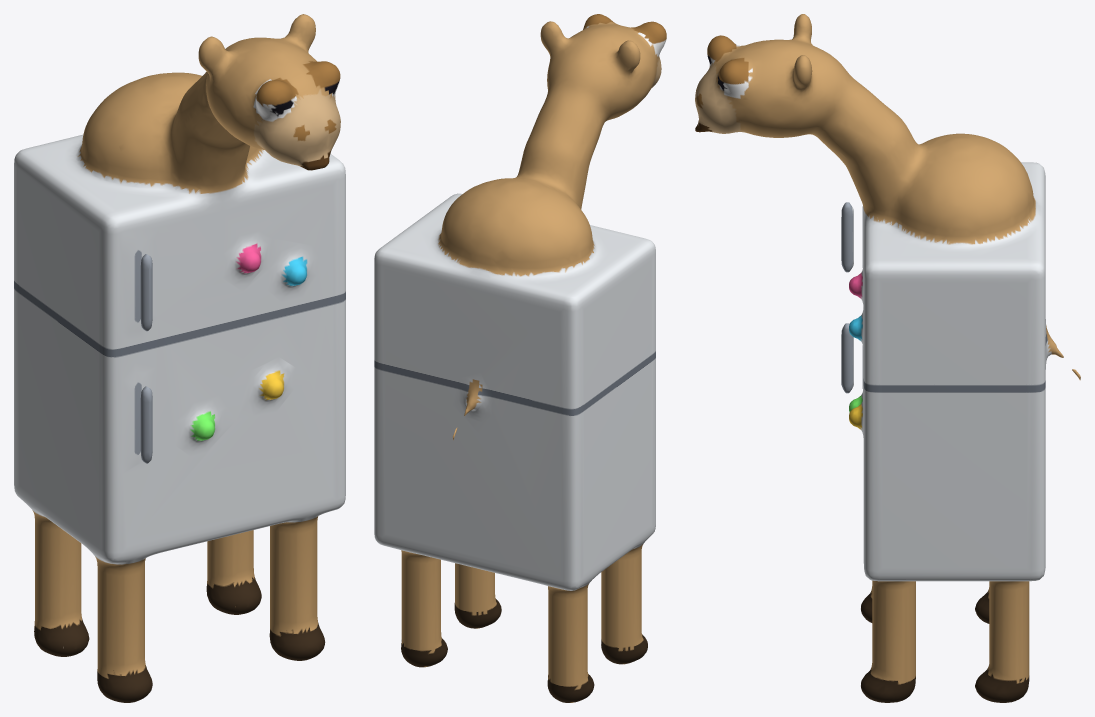
Rendered from SM_Frigo_Camelo.fbx.
3 renders of one model, left to right at view 1: azimuth 30°, elevation 25°; view 2: azimuth 150°, elevation 25°; view 3: azimuth 270°, elevation 25°, orthographic. The views are drawn at different scales.
Parts seen in each view (by area): view 1: Frigo_Camelo; view 2: Frigo_Camelo; view 3: Frigo_Camelo.
Part boxes in pixels (<box>): Frigo_Camelo: <box>14,14,345,702</box>; Frigo_Camelo: <box>374,14,666,702</box>; Frigo_Camelo: <box>695,14,1080,702</box>.
Bounding box in the file's own units: 0.63 × 1.71 × 0.954.
1 material, 1 textured.
